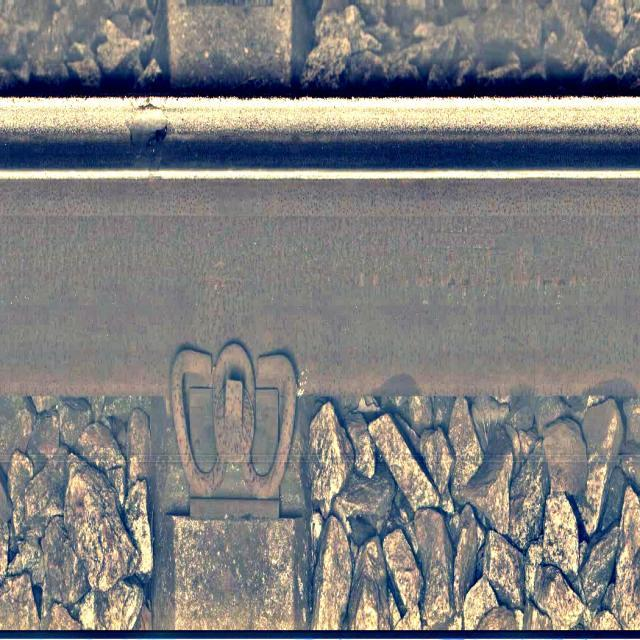Good Fasteners: (171, 342, 296, 517)
